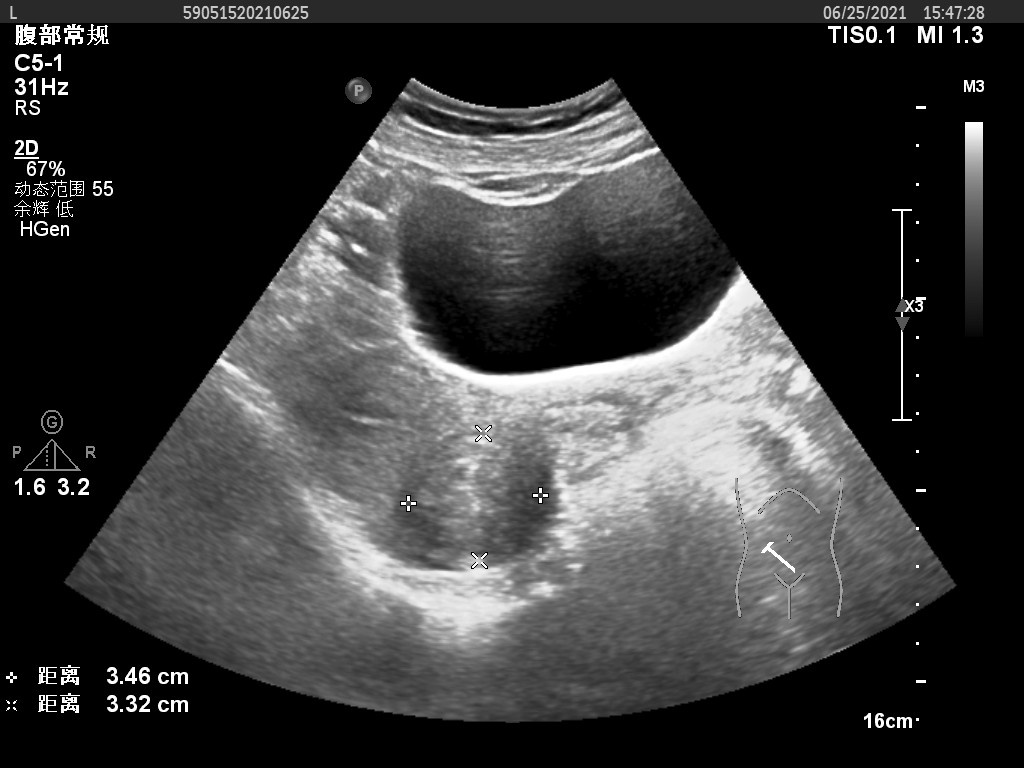肌瘤: (408, 436, 542, 560)
